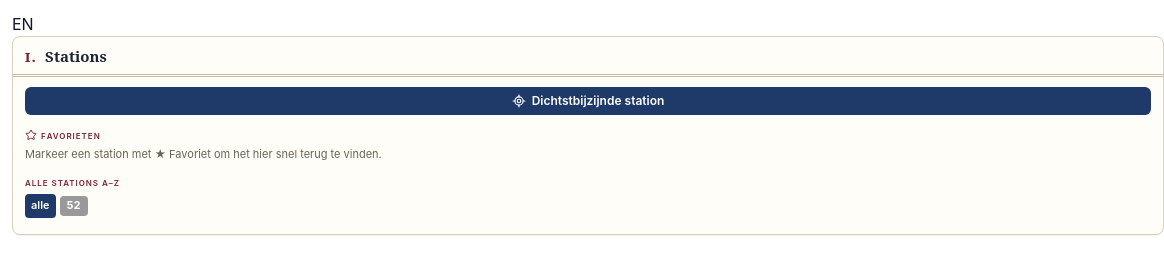
Test case: language › re-renders the travel page's strings
expect the button "Dichtstbijzijnde station" is shown: met, box [25,86,1151,114]
Click the button with aria-label "Switch to English" at [23, 24], box [12,12,34,36]
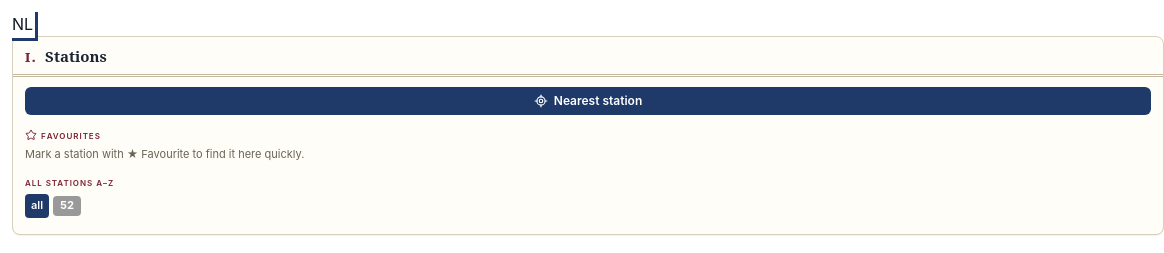
expect the button "Nearest station" is shown: met, box [25,86,1151,114]
expect the heading "All stations A–Z" is shown: met, box [25,174,114,189]
